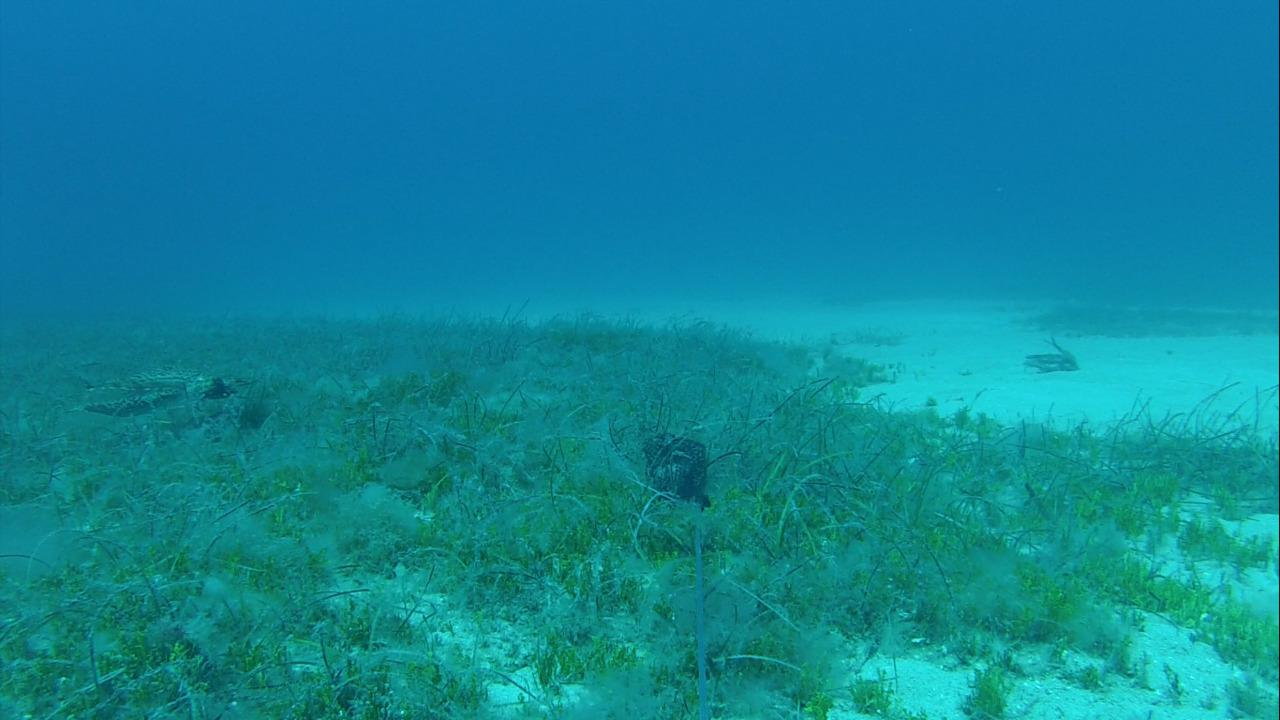dactylopterus: (47, 353, 270, 439)
